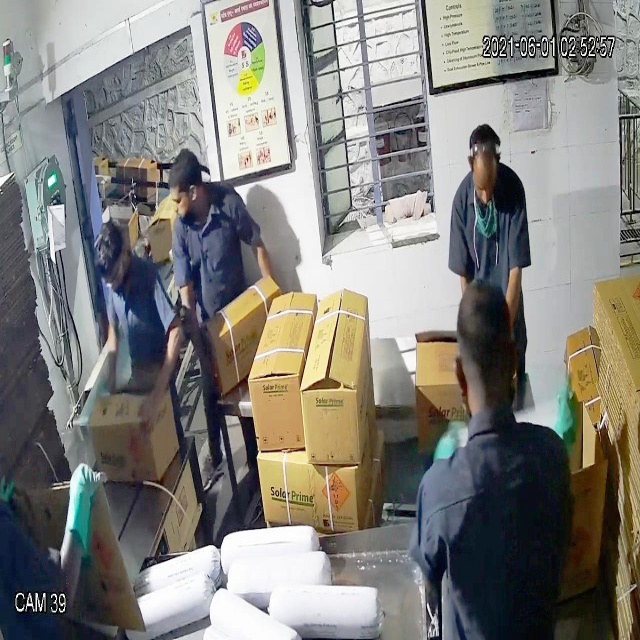Gafas: (93, 255, 130, 292)
